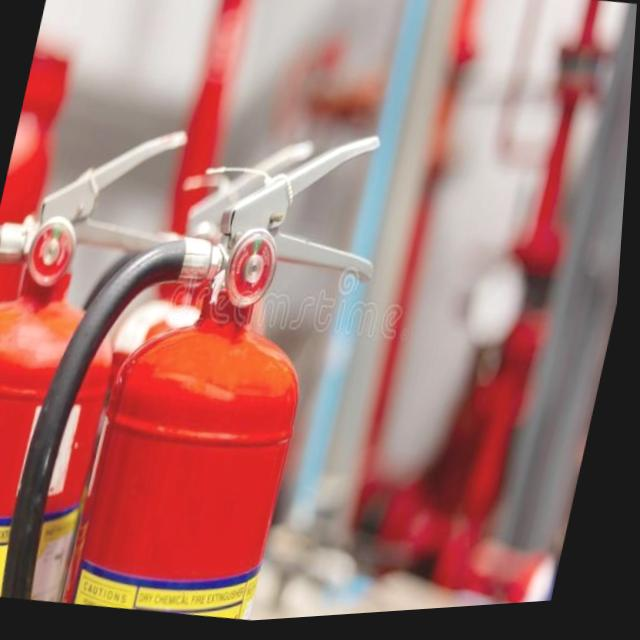FireExtinguisher: (2, 89, 414, 638), (0, 99, 219, 615)
